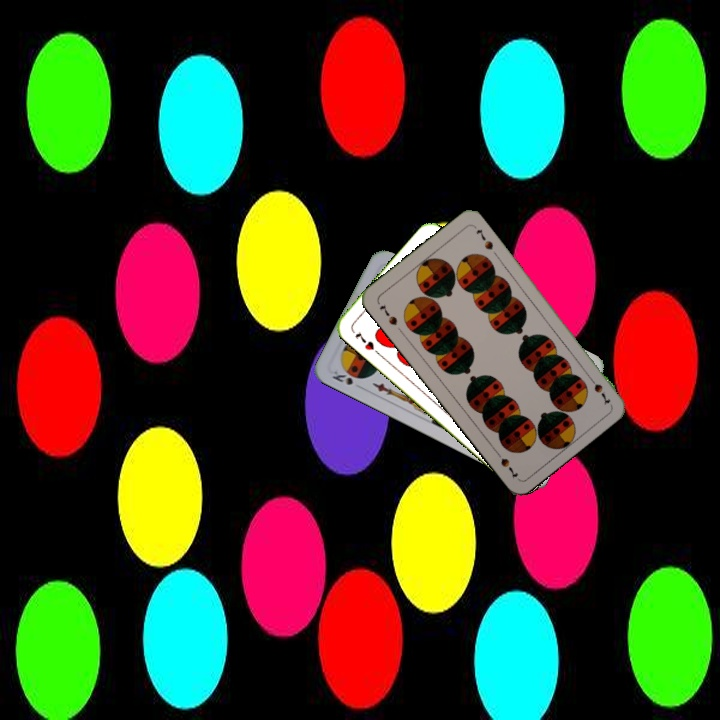H7: (351, 327, 382, 357)
S7: (584, 372, 613, 407), (376, 300, 400, 328)
SK: (328, 364, 363, 388)
